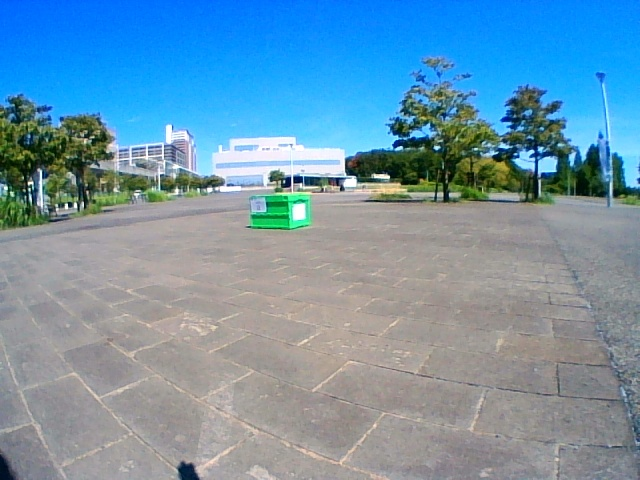green_box: (249, 194, 308, 229)
tag: (252, 199, 263, 212)
